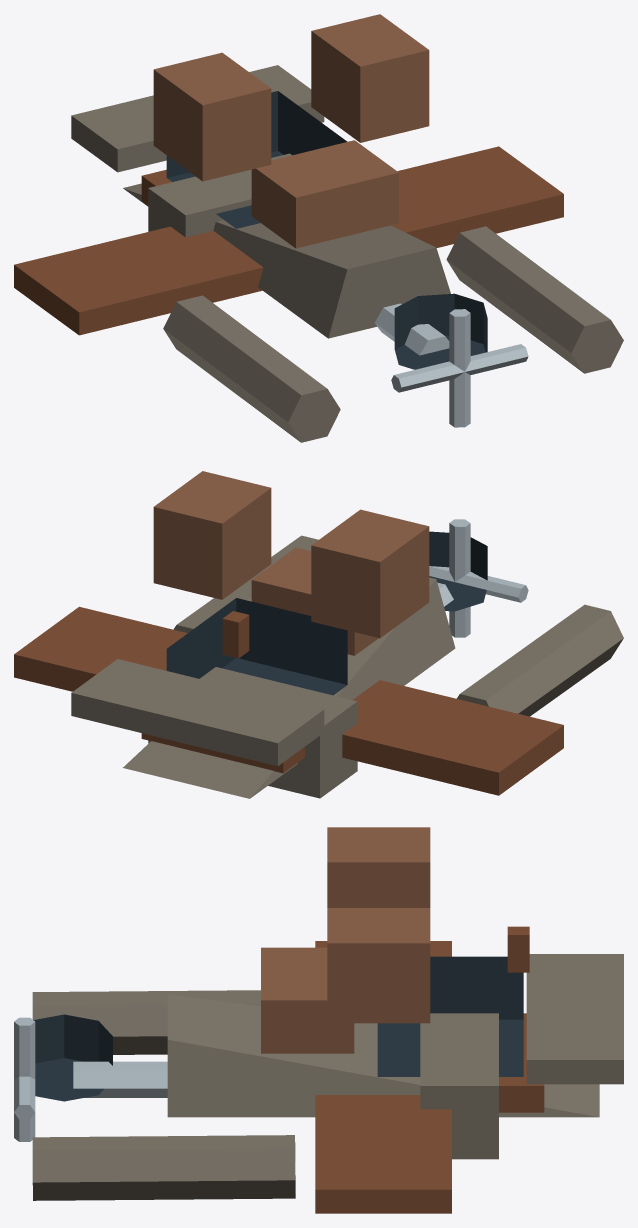
Rendered from gunship.obj.
3 views of the same model, one above another, from view 1: azimuth 30°, elevation 25°; view 2: azimuth 150°, elevation 25°; view 3: azimuth 270°, elevation 25° (orthographic). The views are drawn at different scales.
Parts seen in each view (by area): view 1: air; view 2: air; view 3: air.
Part boxes in pixels (bbox=[...]): air: bbox=[14, 14, 623, 442]; air: bbox=[14, 471, 623, 798]; air: bbox=[14, 827, 623, 1213].
Size of the model in its own units: 2.4 by 1.14 by 2.49.
